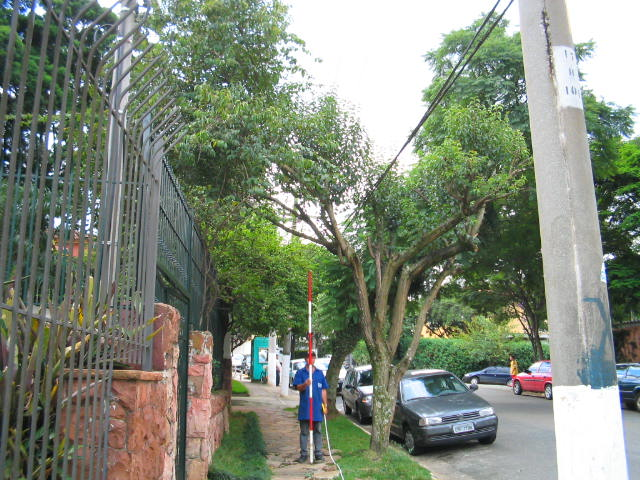crown: (175, 93, 535, 232)
stem: (362, 380, 404, 451)
stick: (301, 270, 317, 462)
tree: (173, 92, 536, 452)
